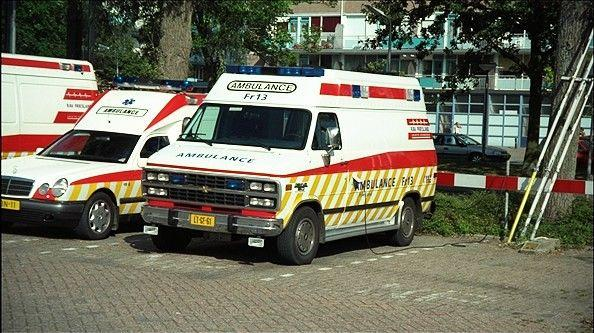Emergency-Vehicles: (184, 60, 429, 251), (44, 82, 185, 220)
